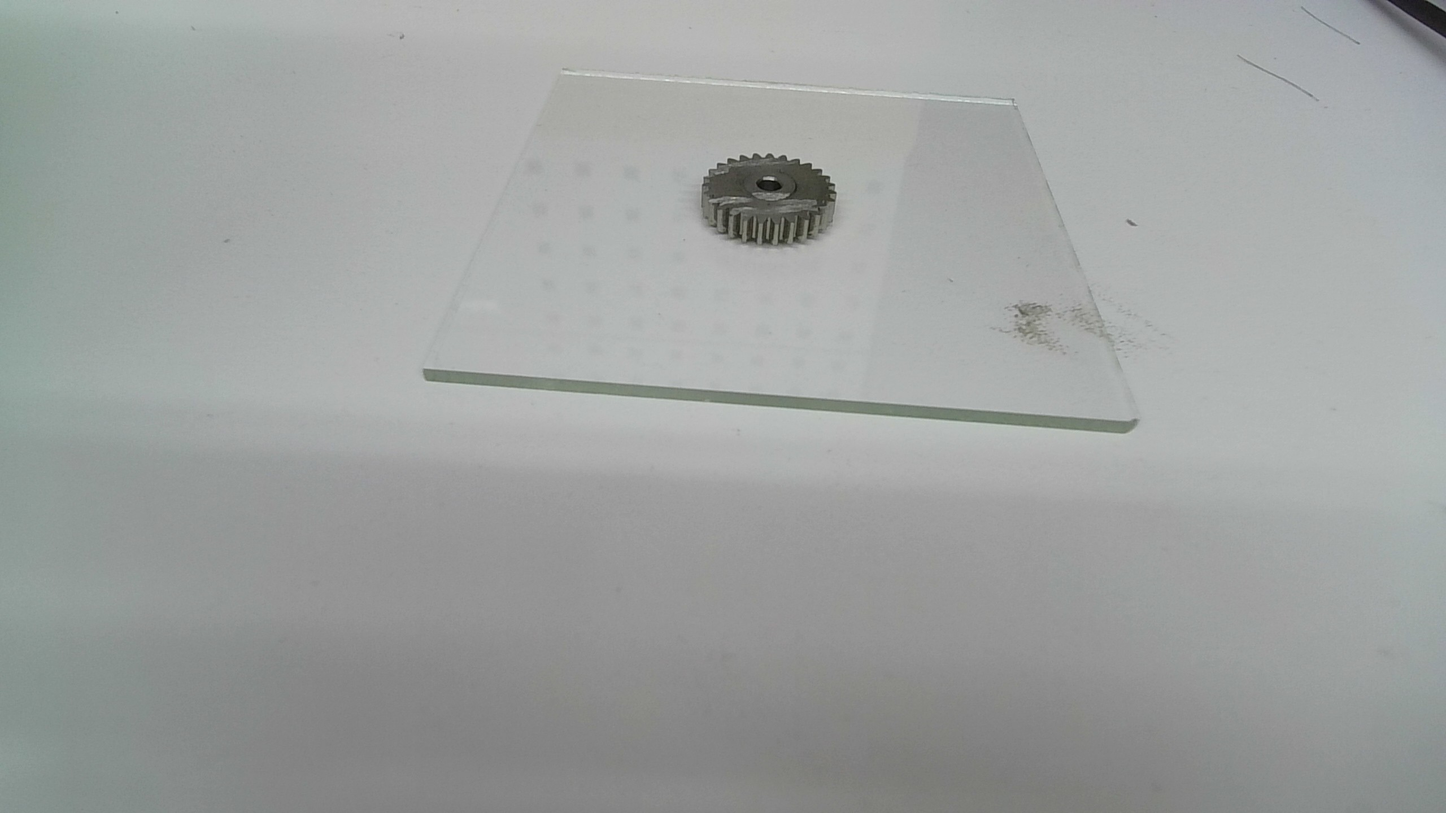gear: (700, 151, 840, 250)
